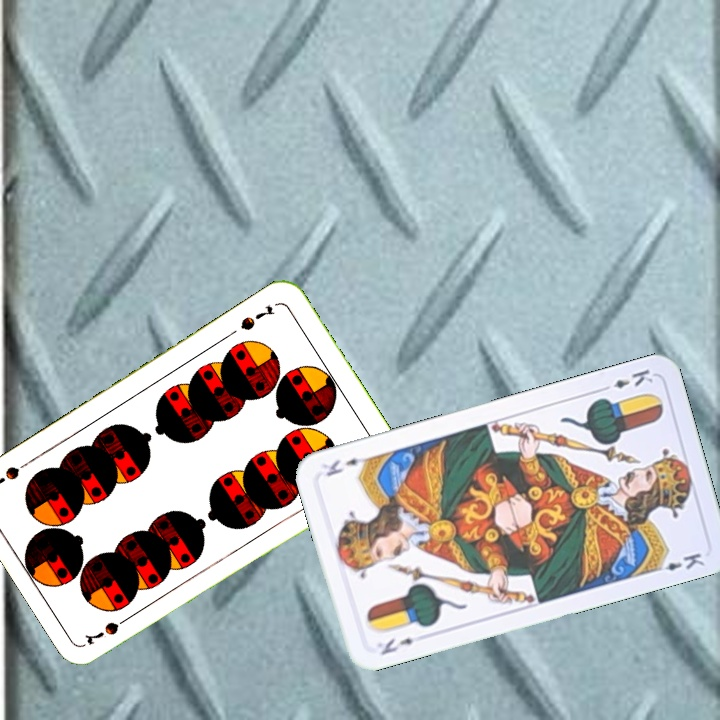EK: (596, 365, 656, 394), (376, 634, 416, 658)
S7: (81, 610, 135, 648), (236, 301, 278, 333)
